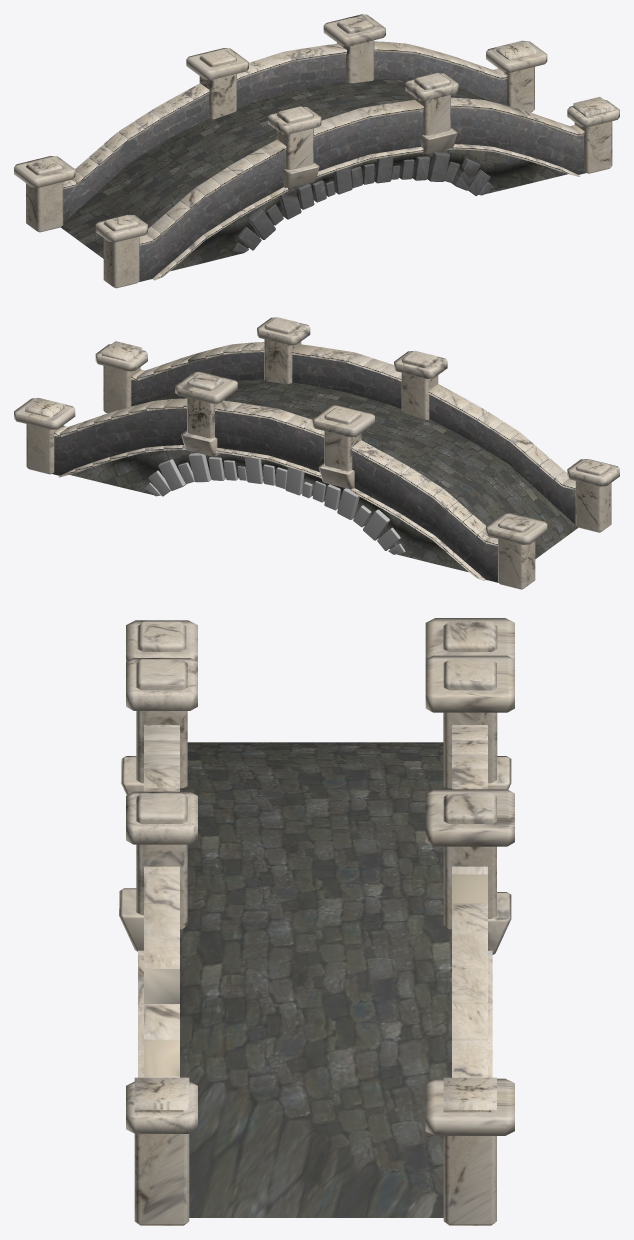
File: Bridge.FBX
3 views of the same model, one above another, from view 1: azimuth 30°, elevation 25°; view 2: azimuth 150°, elevation 25°; view 3: azimuth 270°, elevation 25° (orthographic). The views are drawn at different scales.
Visible parts, largest first — view 1: Puente_1; view 2: Puente_1; view 3: Puente_1.
Part boxes in pixels (<box>): Puente_1: <box>14,14,619,288</box>; Puente_1: <box>14,317,619,589</box>; Puente_1: <box>119,618,514,1225</box>.
Bounding box in the file's own units: 84.74 × 20.15 × 28.16.
